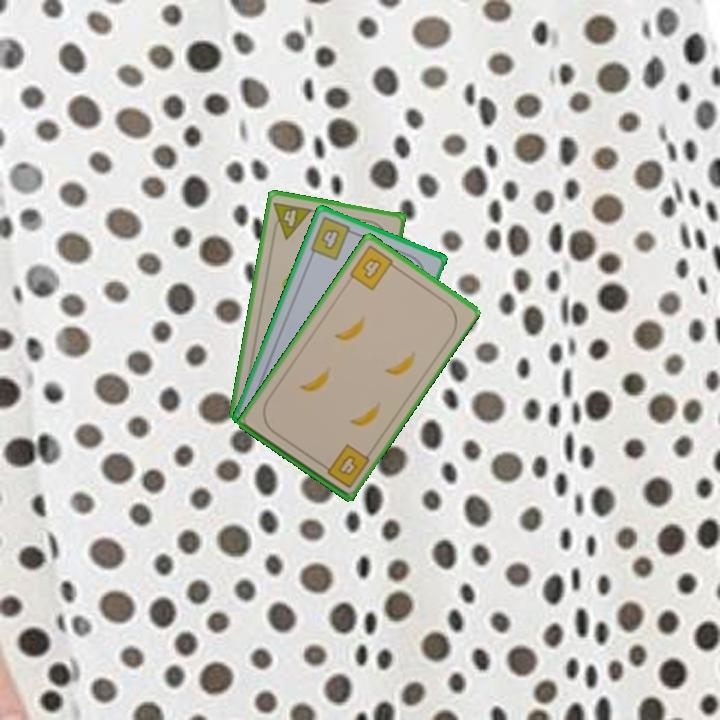4b: (346, 241, 401, 293), (317, 440, 373, 491), (307, 213, 359, 263)
4p: (268, 198, 315, 242)
